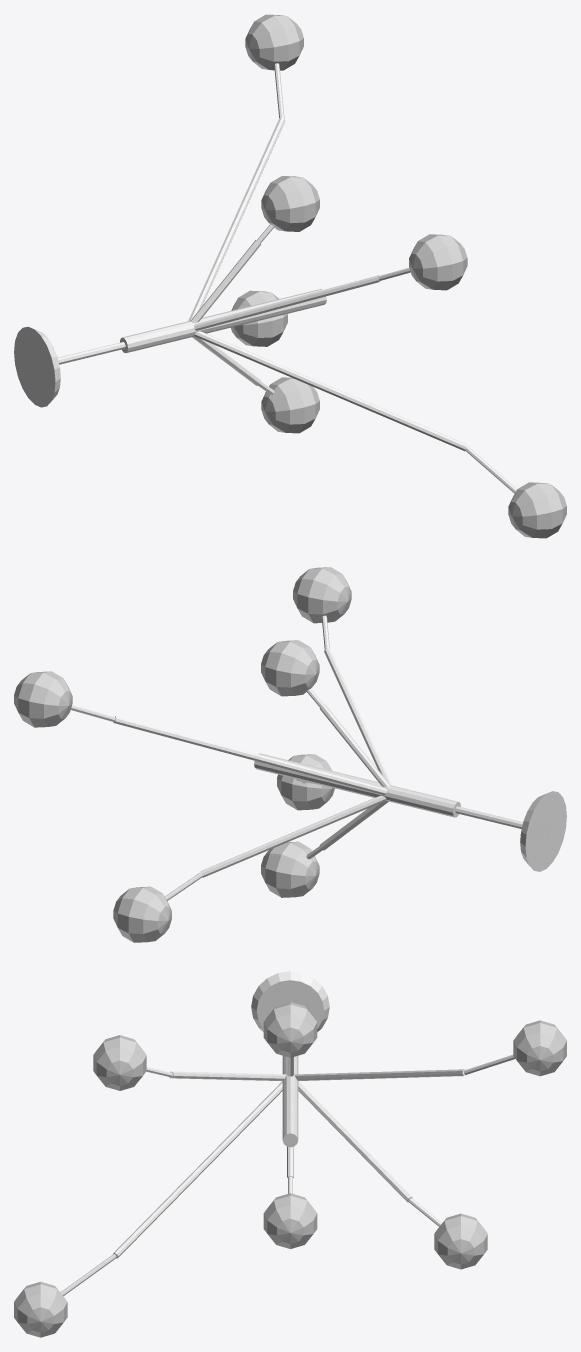
Rendered from sculpturalbranchchandelier.obj.
3 renders of one model, top to bottom at view 1: azimuth 30°, elevation 25°; view 2: azimuth 150°, elevation 25°; view 3: azimuth 270°, elevation 25°, orthographic. The views are drawn at different scales.
Parts seen in each view (by area): view 1: Glass, Metal, Base; view 2: Glass, Metal, Base; view 3: Glass, Metal, Base.
Boxes of the visible parts, left/top/right/bottom form: Glass: left=231, top=14, right=566, bottom=538; Metal: left=58, top=63, right=517, bottom=493; Base: left=14, top=326, right=60, bottom=407; Glass: left=14, top=567, right=351, bottom=942; Metal: left=70, top=615, right=522, bottom=900; Base: left=520, top=791, right=566, bottom=871; Glass: left=14, top=1002, right=566, bottom=1337; Metal: left=60, top=1054, right=514, bottom=1296; Base: left=251, top=971, right=329, bottom=1031.
Size of the model in its own units: 3.09 by 2.45 by 3.93.
